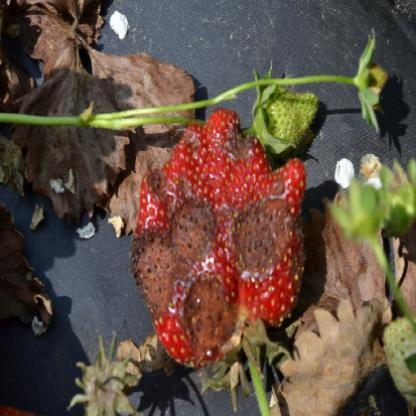Strawberry_Anthracnose_Fruit_Rot: (127, 108, 306, 368)
